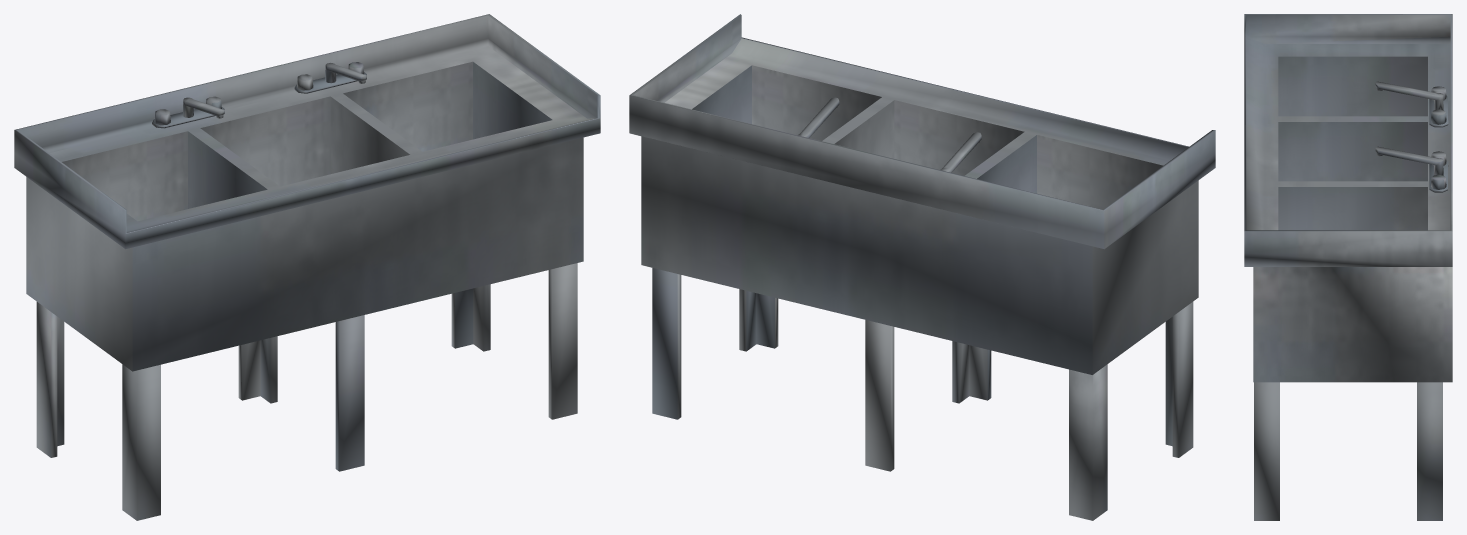
The model's file is DeepSink_Galley.obj.
The picture shows the model from 3 angles, left to right: view 1: azimuth 30°, elevation 25°; view 2: azimuth 150°, elevation 25°; view 3: azimuth 270°, elevation 25°; orthographic projection. The views are drawn at different scales.
Parts seen in each view (by area): view 1: DeepSink_Galley.obj; view 2: DeepSink_Galley.obj; view 3: DeepSink_Galley.obj.
Part boxes in pixels (x1=…): DeepSink_Galley.obj: x1=14, y1=14, x2=600, y2=520; DeepSink_Galley.obj: x1=629, y1=14, x2=1215, y2=520; DeepSink_Galley.obj: x1=1244, y1=14, x2=1452, y2=520.
Size of the model in its own units: 16.04 by 10.52 by 6.5.
